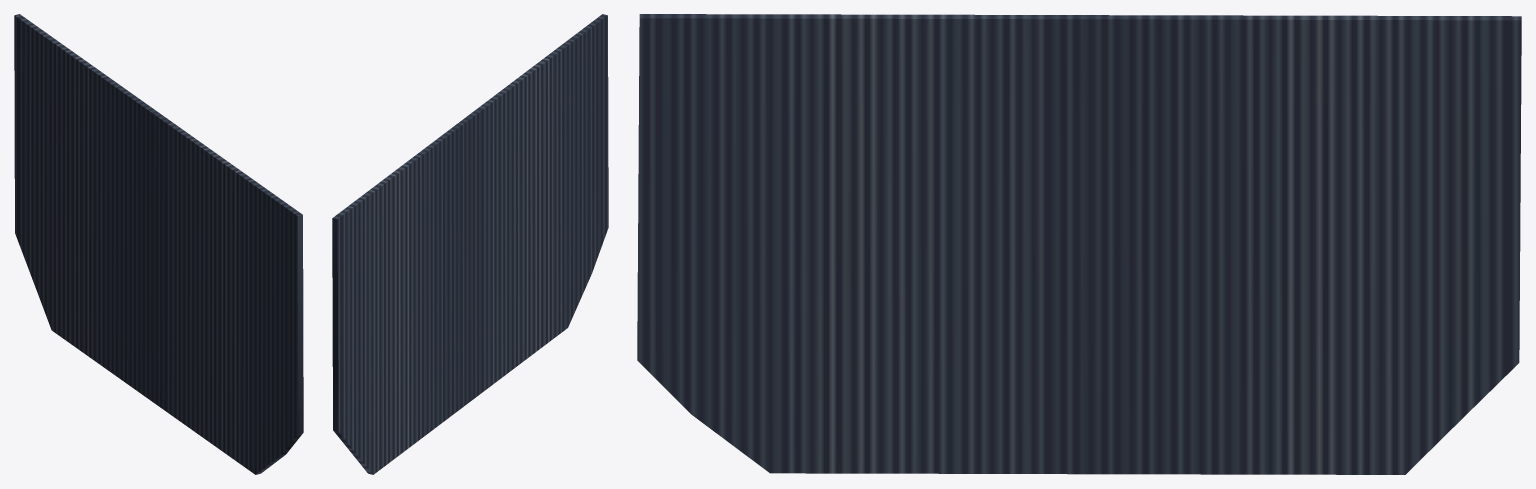
Rendered from solar.gltf.
The picture shows the model from 3 angles, left to right: view 1: azimuth 30°, elevation 25°; view 2: azimuth 150°, elevation 25°; view 3: azimuth 270°, elevation 25°; orthographic projection. The views are drawn at different scales.
Visible parts, largest first — view 1: SolarPanel_043.001_Mesh.140; view 2: SolarPanel_043.001_Mesh.140; view 3: SolarPanel_043.001_Mesh.140.
Part boxes in pixels (x1,y1,x2,y2): SolarPanel_043.001_Mesh.140: [14, 14, 303, 474]; SolarPanel_043.001_Mesh.140: [332, 14, 608, 474]; SolarPanel_043.001_Mesh.140: [637, 14, 1521, 474].
Bounding box in the file's own units: 0.00118 × 0.0364 × 0.0635.
1 material, 1 textured.
